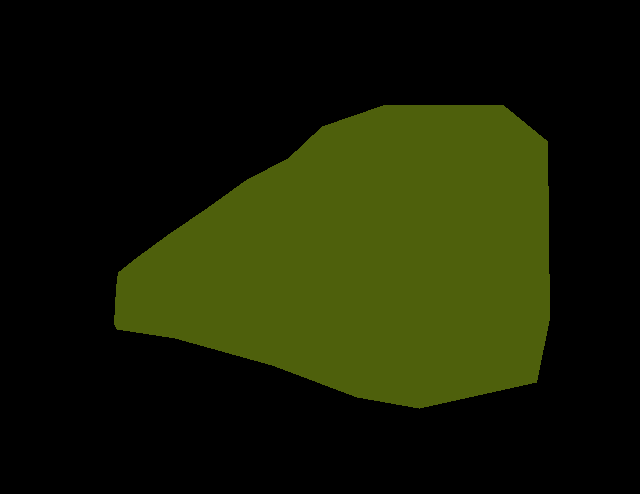Train: (114, 105, 550, 409)
